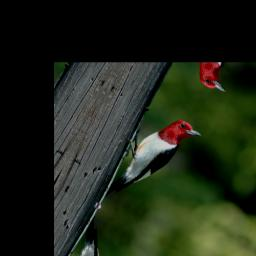Woodpecker: (93, 99, 205, 227)
